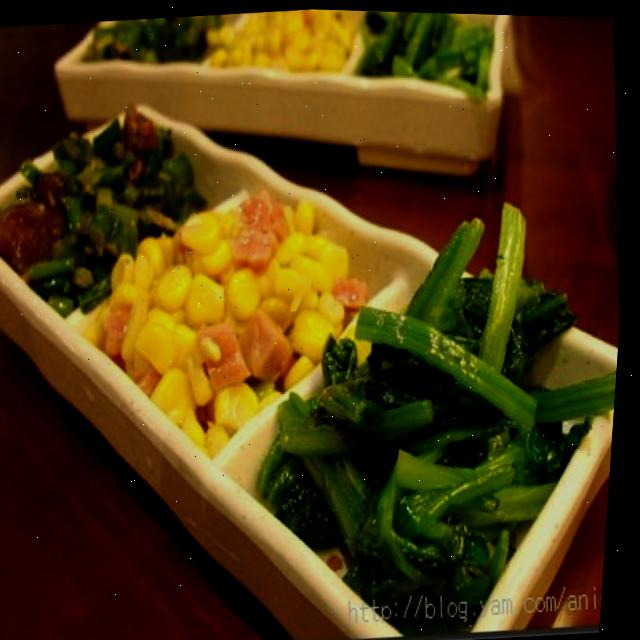蔬菜料理: (200, 159, 632, 640)
